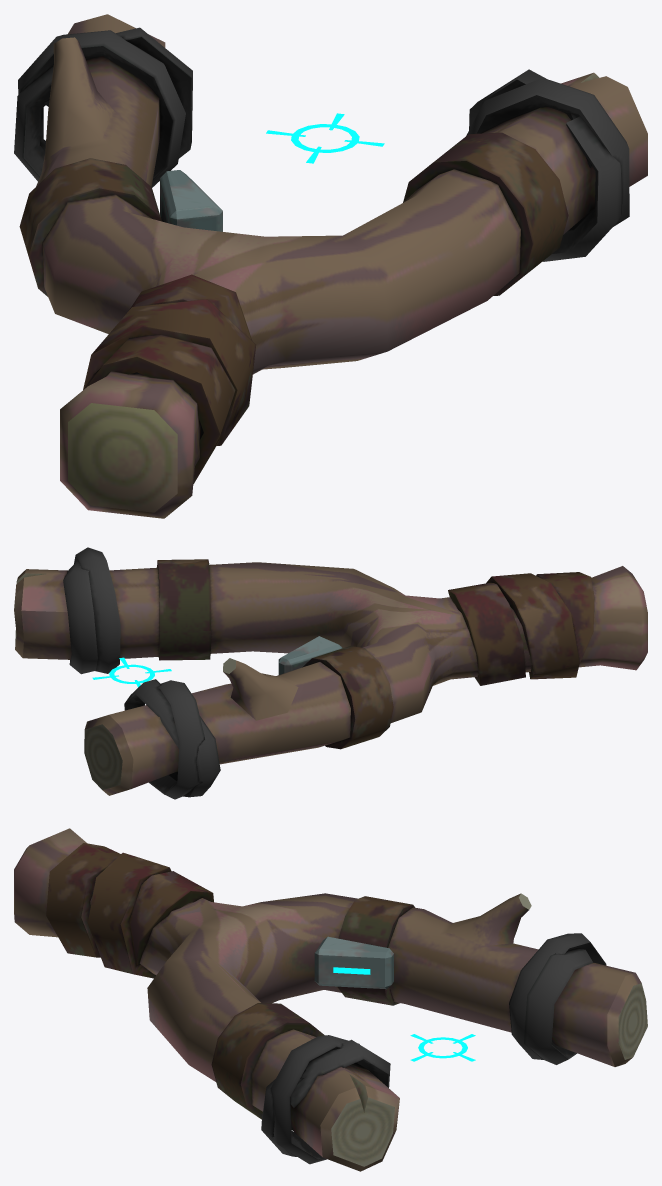
Rendered from weapon-slingshot1-UI.glb.
3 renders of one model, top to bottom at view 1: azimuth 30°, elevation 25°; view 2: azimuth 150°, elevation 25°; view 3: azimuth 270°, elevation 25°, orthographic. The views are drawn at different scales.
Parts seen in each view (by area): view 1: weapon-slingshot1-UI; view 2: weapon-slingshot1-UI; view 3: weapon-slingshot1-UI.
Part boxes in pixels (box(x1,y1,x2,y2)): weapon-slingshot1-UI: box(14, 14, 647, 518); weapon-slingshot1-UI: box(14, 547, 647, 799); weapon-slingshot1-UI: box(14, 828, 647, 1171).
Bounding box in the file's own units: 0.5203 × 0.131 × 0.5206.
Materials: 2 (1 with a texture image).
